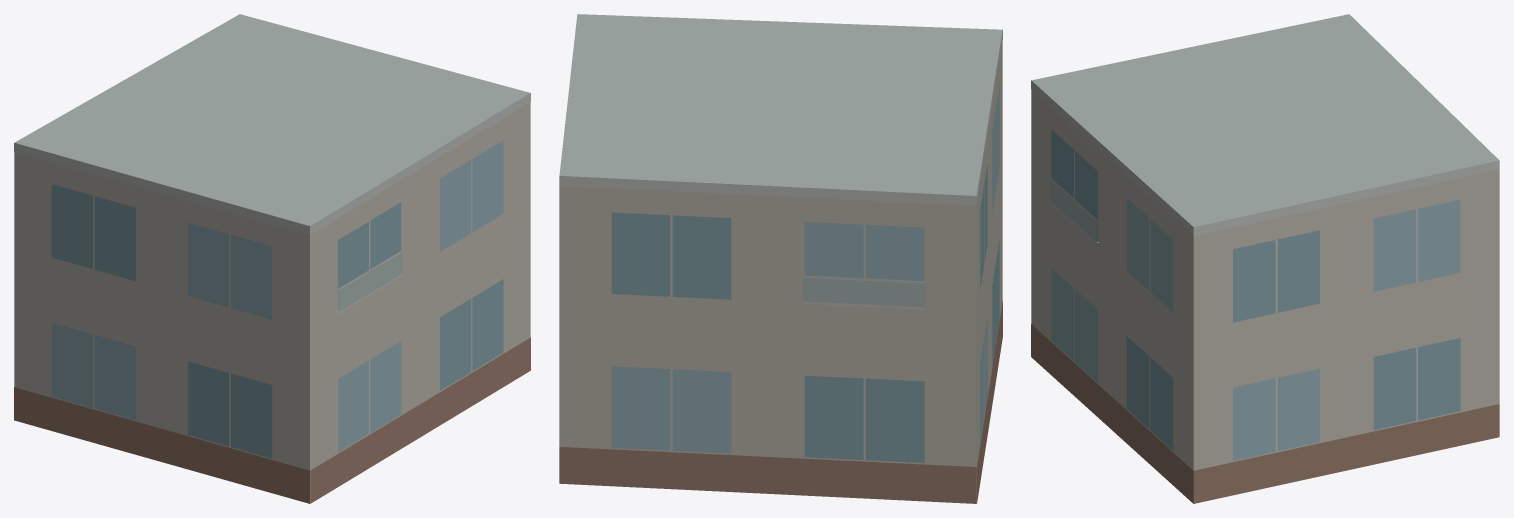
File: survey-upis-32698416.glb
The picture shows the model from 3 angles, left to right: view 1: azimuth 30°, elevation 25°; view 2: azimuth 150°, elevation 25°; view 3: azimuth 270°, elevation 25°; orthographic projection. The views are drawn at different scales.
Visible parts, largest first — view 1: survey-upis-32698416.tmp; view 2: survey-upis-32698416.tmp; view 3: survey-upis-32698416.tmp.
Part boxes in pixels (bbox=[...]): survey-upis-32698416.tmp: bbox=[14, 14, 530, 503]; survey-upis-32698416.tmp: bbox=[559, 14, 1002, 503]; survey-upis-32698416.tmp: bbox=[1031, 14, 1499, 503].
Size of the model in its own units: 12.57 by 7.6 by 11.67.
